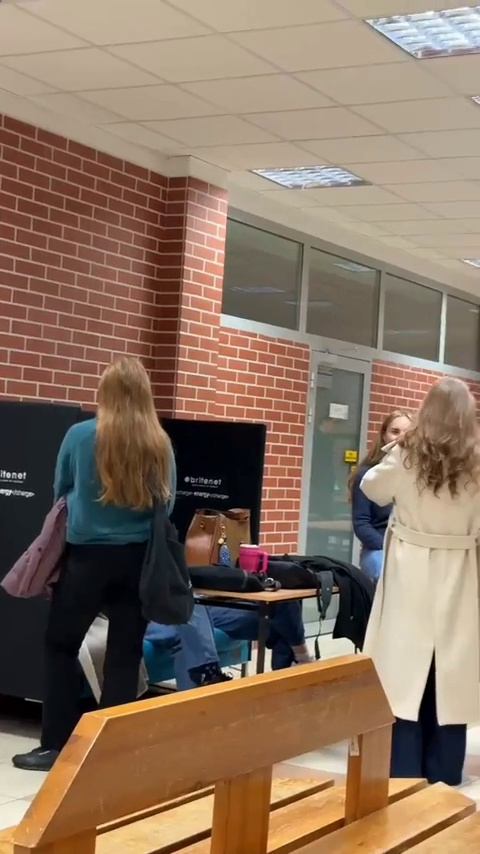no vest: (49, 347, 179, 706), (358, 370, 480, 728)
